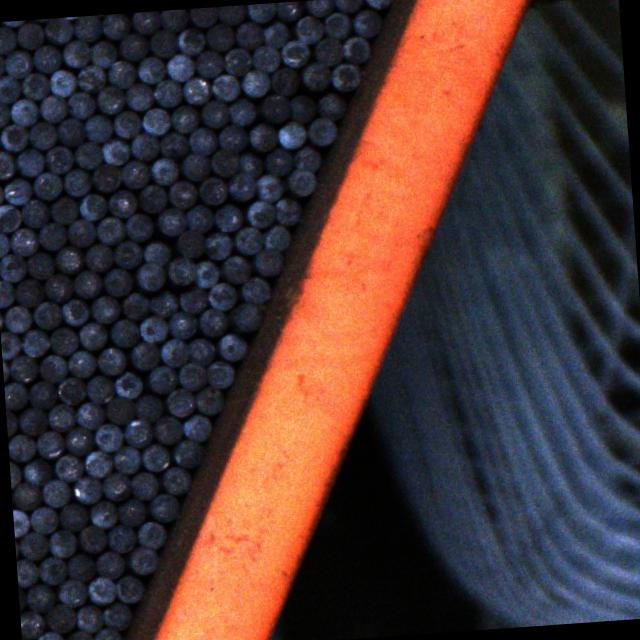tool: (171, 436, 204, 468), (230, 300, 262, 332), (146, 491, 178, 523), (104, 522, 136, 554), (208, 146, 240, 177), (103, 394, 134, 425), (192, 384, 224, 414), (150, 414, 182, 444), (42, 602, 74, 632), (306, 116, 337, 146), (252, 245, 283, 275), (160, 465, 191, 495), (244, 198, 274, 229), (114, 497, 146, 526), (56, 578, 88, 607), (286, 166, 316, 196), (204, 358, 234, 388), (159, 130, 189, 160), (293, 14, 323, 44), (180, 74, 210, 104), (187, 126, 217, 156), (168, 179, 198, 209), (174, 228, 204, 258), (102, 266, 132, 296), (148, 288, 178, 318), (198, 306, 228, 336), (146, 364, 176, 394), (122, 418, 152, 448), (92, 422, 122, 452), (40, 478, 70, 508), (57, 502, 87, 532), (46, 528, 76, 558), (18, 530, 48, 560), (27, 120, 57, 150), (36, 220, 66, 250), (94, 215, 124, 245), (53, 244, 83, 274), (48, 326, 78, 356), (64, 425, 93, 456), (1, 177, 32, 206), (263, 147, 294, 176), (350, 8, 380, 37), (329, 61, 359, 90), (180, 413, 210, 442), (113, 573, 142, 603), (106, 58, 135, 88), (123, 80, 152, 110), (140, 106, 169, 136), (233, 224, 262, 254), (280, 38, 310, 67), (300, 61, 330, 90), (268, 66, 298, 95), (148, 29, 178, 58), (199, 99, 229, 128), (259, 93, 289, 122), (148, 156, 178, 185), (109, 317, 138, 347), (158, 338, 188, 367), (56, 376, 85, 406), (85, 374, 114, 404), (45, 402, 74, 432), (100, 472, 130, 501), (129, 470, 158, 500), (87, 498, 116, 528), (28, 505, 58, 534), (31, 44, 60, 74), (8, 97, 38, 126), (83, 113, 112, 143), (73, 140, 102, 170), (136, 184, 166, 213), (32, 170, 62, 199), (20, 197, 49, 227), (253, 172, 282, 202), (8, 226, 37, 256), (83, 242, 112, 272), (14, 278, 44, 307), (32, 300, 62, 329), (27, 380, 56, 410), (177, 360, 206, 390), (165, 386, 194, 416), (275, 120, 306, 148), (137, 520, 166, 549), (221, 46, 250, 75), (165, 52, 194, 81), (152, 77, 181, 106), (169, 104, 198, 133), (155, 207, 184, 236), (129, 342, 158, 371), (74, 399, 103, 428), (140, 443, 169, 472), (12, 482, 41, 511), (94, 549, 123, 578), (95, 85, 124, 114), (61, 167, 90, 196), (107, 188, 136, 217), (43, 272, 72, 301), (20, 328, 49, 357), (8, 354, 37, 383), (339, 35, 369, 63), (315, 92, 345, 120), (218, 330, 246, 360), (100, 601, 130, 629), (312, 36, 340, 66), (234, 21, 262, 51), (240, 67, 268, 97), (136, 54, 164, 84), (217, 124, 247, 152), (184, 202, 212, 232), (202, 230, 232, 258), (219, 254, 249, 282), (134, 262, 164, 290), (111, 240, 141, 268), (120, 290, 148, 320), (96, 346, 126, 374), (34, 430, 64, 458), (72, 474, 100, 504), (3, 48, 31, 78), (62, 38, 90, 68), (75, 64, 105, 92), (56, 116, 84, 146), (44, 144, 72, 174), (119, 160, 149, 188), (90, 163, 120, 191), (72, 268, 100, 298), (38, 354, 66, 384), (262, 224, 291, 252), (72, 14, 101, 42), (180, 151, 208, 180), (322, 10, 351, 38), (204, 23, 233, 51), (194, 48, 223, 76), (210, 72, 239, 100), (248, 122, 276, 151), (165, 256, 194, 284), (206, 282, 235, 310), (90, 294, 118, 323), (167, 310, 196, 338), (186, 337, 214, 366), (133, 393, 161, 422), (111, 444, 140, 472), (54, 453, 82, 482), (83, 449, 111, 478), (78, 524, 106, 553), (24, 584, 53, 612), (86, 576, 115, 604), (48, 68, 76, 97), (66, 90, 95, 118), (0, 122, 28, 151), (15, 148, 44, 176), (77, 192, 106, 220), (66, 218, 95, 246), (2, 303, 30, 332), (18, 407, 46, 436), (214, 202, 241, 232), (272, 197, 300, 225), (198, 176, 226, 204), (100, 12, 128, 40), (250, 44, 278, 72), (286, 94, 314, 122), (118, 33, 146, 61), (112, 109, 140, 137), (130, 132, 158, 160), (124, 212, 152, 240), (138, 314, 166, 342), (66, 350, 94, 378), (114, 370, 142, 398), (7, 434, 35, 462), (38, 556, 66, 584), (66, 552, 94, 580), (74, 604, 102, 632), (15, 21, 43, 49), (38, 94, 66, 122), (100, 138, 128, 166), (61, 298, 89, 326), (239, 276, 269, 302), (178, 286, 208, 312), (22, 460, 52, 486), (78, 322, 106, 349), (44, 17, 72, 44), (21, 72, 48, 100), (49, 197, 77, 224), (227, 172, 254, 200), (192, 259, 218, 288), (176, 27, 203, 54), (292, 146, 320, 172), (90, 40, 116, 68), (26, 252, 52, 280), (0, 253, 25, 282), (20, 610, 44, 640), (130, 547, 156, 574), (228, 98, 255, 124), (262, 22, 288, 48), (142, 240, 169, 265), (160, 8, 188, 32), (132, 10, 160, 34), (238, 152, 262, 178), (216, 4, 244, 26), (188, 6, 216, 28), (0, 329, 21, 358), (4, 382, 26, 409), (16, 558, 37, 586), (0, 203, 20, 232), (247, 2, 275, 22), (0, 73, 19, 102), (276, 1, 302, 22), (303, 0, 333, 17), (12, 508, 30, 536), (93, 626, 122, 640), (0, 149, 14, 178), (0, 26, 15, 53), (0, 278, 14, 306), (63, 628, 94, 640), (333, 0, 360, 13), (34, 629, 64, 640), (0, 99, 9, 128), (0, 229, 9, 257), (364, 0, 392, 8)
